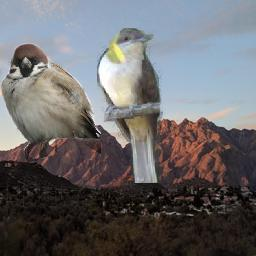Cuckoo: (97, 29, 163, 184)
Sparrow: (1, 44, 101, 163)
